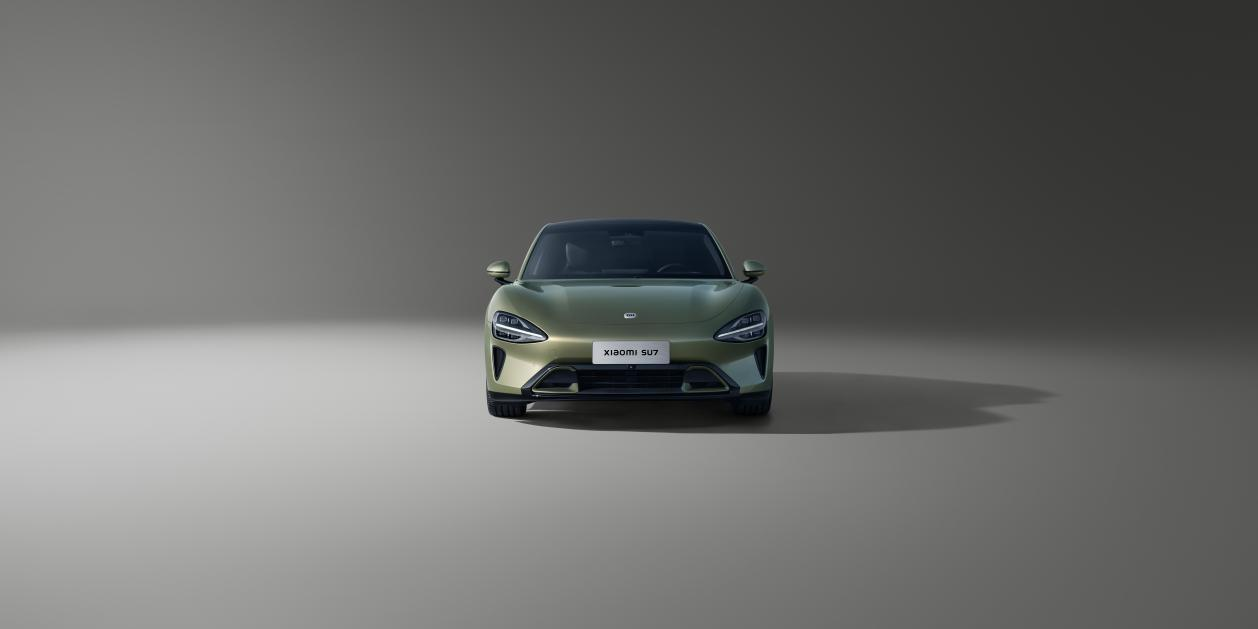su7: (491, 214, 776, 426)
